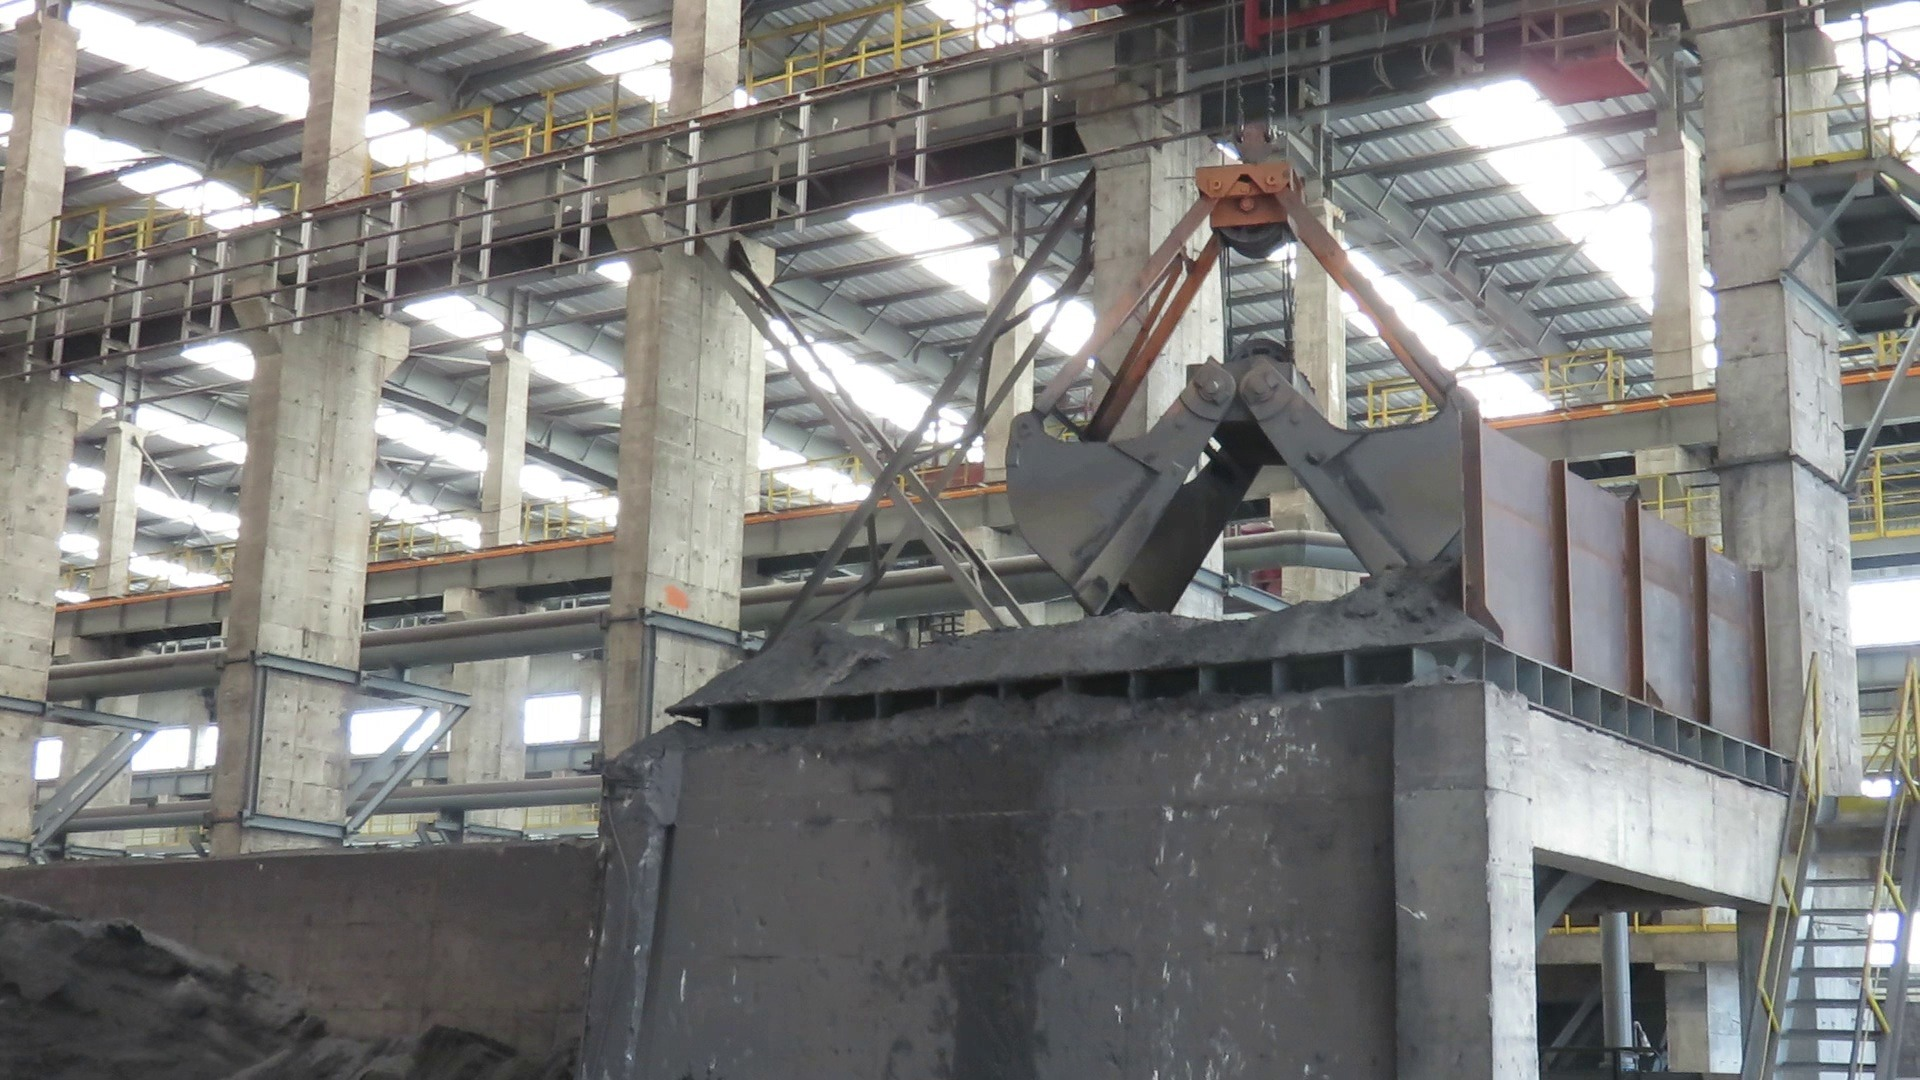grab: (992, 115, 1495, 626)
